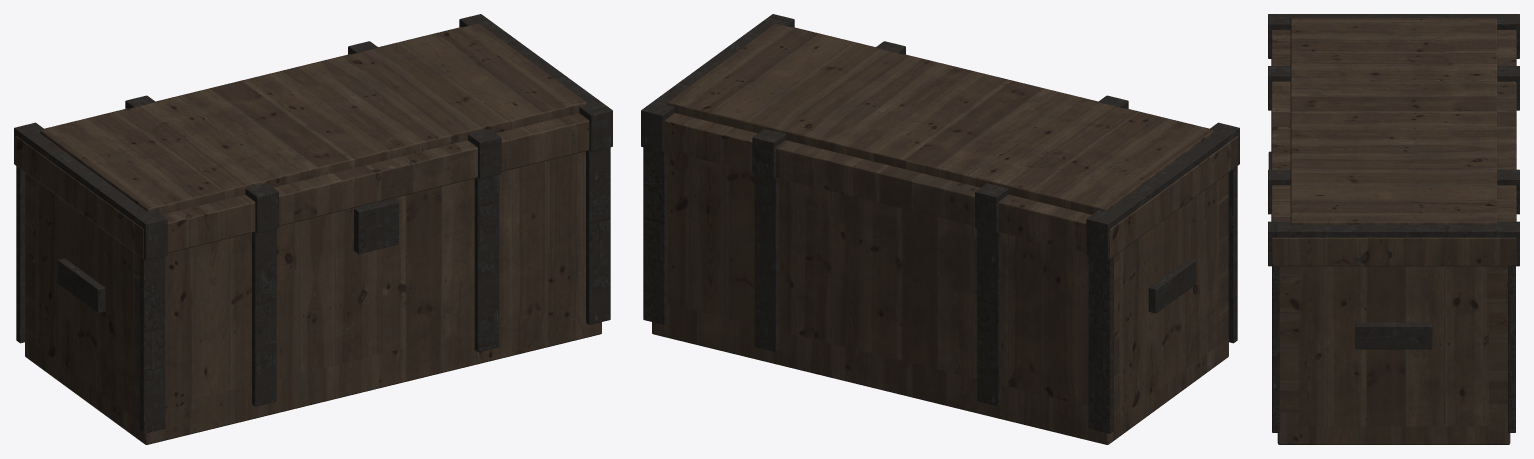
Rendered from evidence_chest_aaa.glb.
3 renders of one model, left to right at view 1: azimuth 30°, elevation 25°; view 2: azimuth 150°, elevation 25°; view 3: azimuth 270°, elevation 25°, orthographic. The views are drawn at different scales.
Visible parts, largest first — view 1: ChestBody, Lid, ChestIron, LidIron; view 2: ChestBody, Lid, ChestIron, LidIron; view 3: Lid, ChestBody, LidIron, ChestIron.
Part boxes in pixels (x1,y1,x2,y2): ChestBody: (25,151,601,444); Lid: (15,23,589,258); ChestIron: (16,147,610,433); LidIron: (14,14,612,260); ChestBody: (652,151,1228,444); Lid: (664,23,1238,258); ChestIron: (643,147,1237,433); LidIron: (641,14,1239,260); Lid: (1271,18,1516,266); ChestBody: (1277,266,1510,444); LidIron: (1268,14,1519,266); ChestIron: (1268,151,1515,432).
Size of the model in its own units: 1.61 by 0.75 by 0.78.
Materials: 4 (2 with a texture image).
